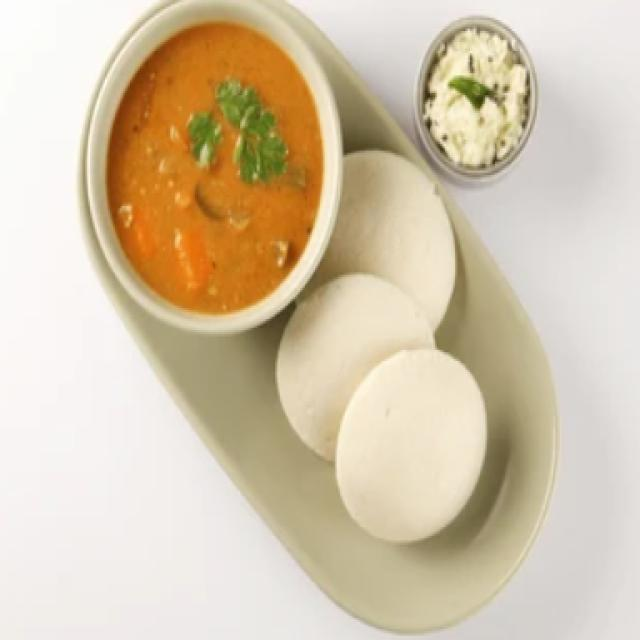sambar: (120, 24, 298, 287)
